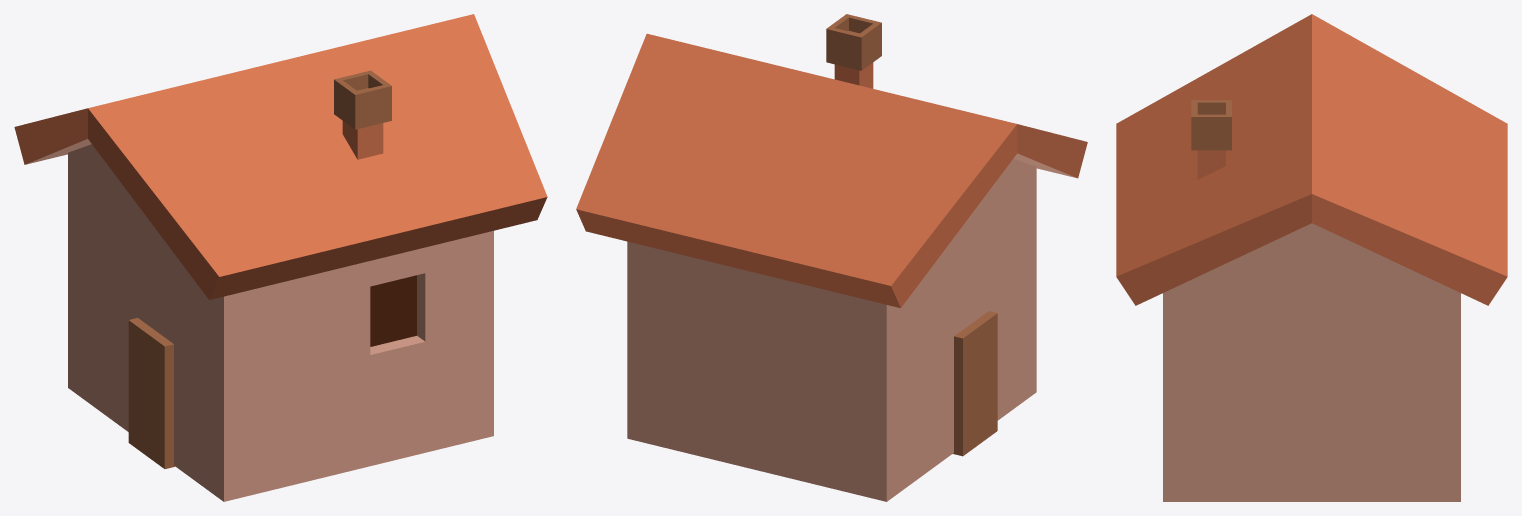
Rendered from xiaomuwu.fbx.
The picture shows the model from 3 angles, left to right: view 1: azimuth 30°, elevation 25°; view 2: azimuth 150°, elevation 25°; view 3: azimuth 270°, elevation 25°; orthographic projection. The views are drawn at different scales.
Visible parts, largest first — view 1: pasted__pasted__pCube205; view 2: pasted__pasted__pCube205; view 3: pasted__pasted__pCube205.
Part boxes in pixels (bbox=[...]): pasted__pasted__pCube205: bbox=[14, 14, 547, 501]; pasted__pasted__pCube205: bbox=[576, 14, 1087, 501]; pasted__pasted__pCube205: bbox=[1116, 14, 1507, 501].
Size of the model in its own units: 9.73 by 8.71 by 8.95.
